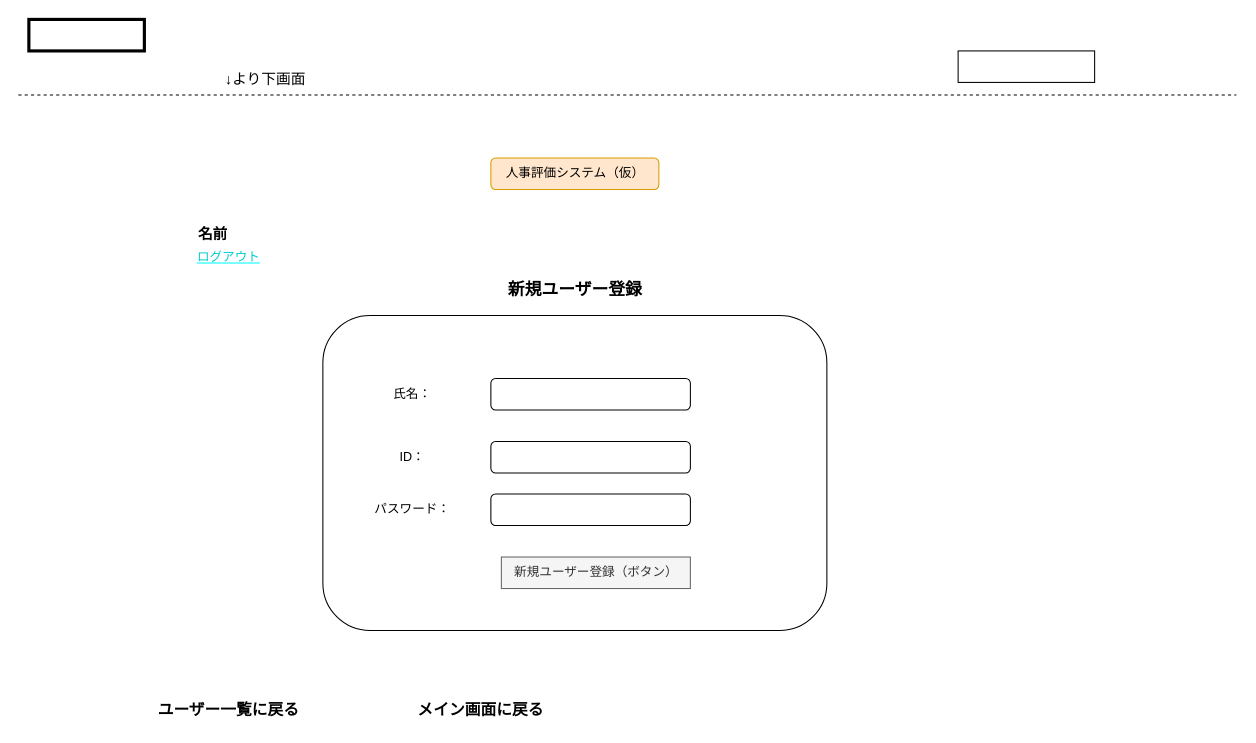
This 1256x743 diagram has some shape labels left out. The shapes that lost their labels are listed below. From the top down, each one's centre as x and y in pixels, then its label:
At point (86, 34): "newUser.jsp".
At point (1026, 66): "ユーザ登録フォーム".
